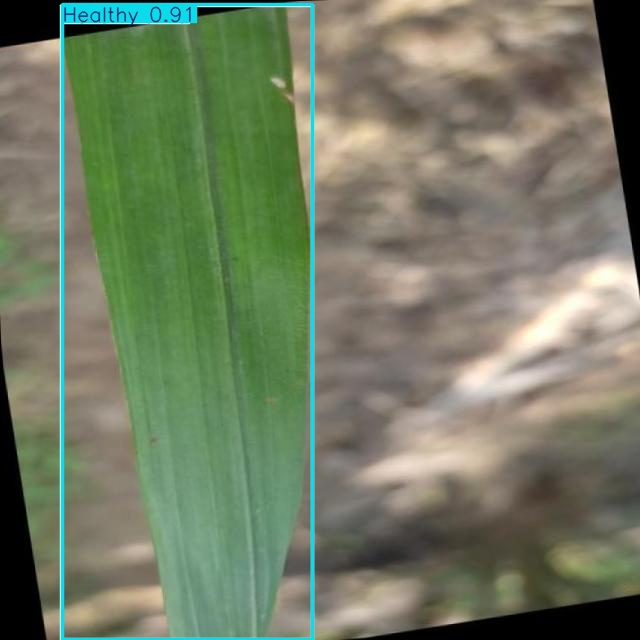Healthy: (63, 4, 313, 639)
Kalium: (61, 6, 313, 640)
